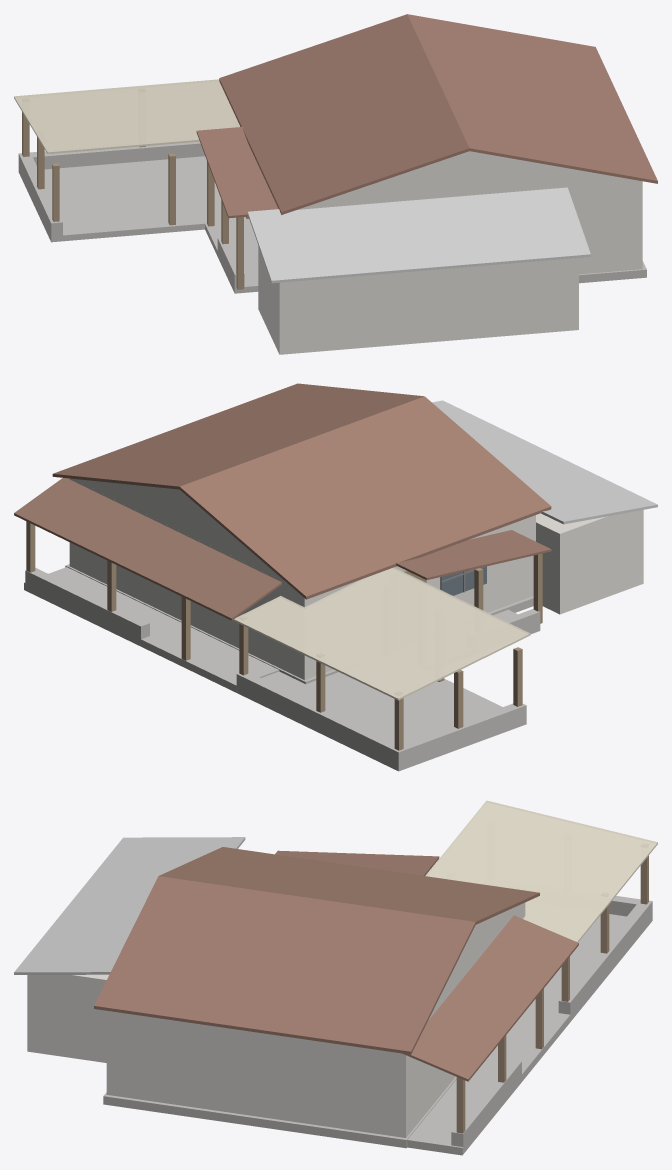
Rendered from rares_farm_house.glb.
3 renders of one model, top to bottom at view 1: azimuth 30°, elevation 25°; view 2: azimuth 150°, elevation 25°; view 3: azimuth 270°, elevation 25°, orthographic. The views are drawn at different scales.
Parts seen in each view (by area): view 1: Main_Roof_W, Main_Roof_E, South_Ext_Roof, South_Ext_Walls, Netting_Canopy_Tarp, Netting_Slab, Main_Gable, Main_Walls, West_Eave_Awning, Netting_Curb_N, West_Porch_Slab, Netting_Curb_W (+4 smaller); view 2: Main_Roof_W, Netting_Canopy_Tarp, Main_Roof_E, Front_Porch_Roof_GI, Main_Walls, Netting_Slab, South_Ext_Walls, South_Ext_Roof, Front_Porch_Slab, Main_Gable, West_Eave_Awning, Netting_Curb_N (+8 smaller); view 3: Main_Roof_E, Main_Walls, Netting_Canopy_Tarp, Main_Roof_W, Front_Porch_Roof_GI, South_Ext_Roof, South_Ext_Walls, Front_Porch_Slab, Main_Plinth, Netting_Slab, Netting_Curb_N, West_Eave_Awning (+4 smaller).
Part boxes in pixels (x1,y1,x2,y2): Main_Roof_W: (219,14,469,214); Main_Roof_E: (407,14,657,183); South_Ext_Roof: (247,187,590,283); South_Ext_Walls: (258,246,578,354); Netting_Canopy_Tarp: (14,79,240,154); Netting_Slab: (18,156,249,242); Main_Gable: (300,151,639,208); Main_Walls: (297,181,642,274); West_Eave_Awning: (196,127,278,218); Netting_Curb_N: (18,141,204,170); West_Porch_Slab: (205,220,258,293); Netting_Curb_W: (19,152,62,236); Main_Roof_W: (179,396,551,599); Netting_Canopy_Tarp: (233,567,530,700); Main_Roof_E: (52,383,423,489); Front_Porch_Roof_GI: (14,478,281,620); Main_Walls: (69,478,535,680); Netting_Slab: (236,671,526,771); South_Ext_Walls: (536,510,643,614); South_Ext_Roof: (432,400,657,524); Front_Porch_Slab: (24,567,279,692); Main_Gable: (73,479,285,581); West_Eave_Awning: (395,530,551,579); Netting_Curb_N: (236,672,407,765); Main_Roof_E: (94,876,475,1054); Main_Walls: (106,902,525,1137); Netting_Canopy_Tarp: (425,800,657,942); Main_Roof_W: (159,847,539,924); Front_Porch_Roof_GI: (402,915,578,1081); South_Ext_Roof: (14,837,245,974); South_Ext_Walls: (27,974,108,1062); Front_Porch_Slab: (407,1008,570,1155); Main_Plinth: (103,1076,456,1148); Netting_Slab: (528,914,652,1021); Netting_Curb_N: (558,904,648,1015); West_Eave_Awning: (275,850,439,875).
Bounding box in the file's own units: 15.02 × 4.03 × 15.46.
